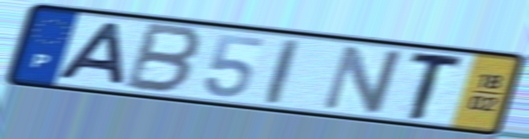5: (201, 32, 268, 99)
A: (51, 20, 128, 89)
B: (119, 20, 208, 97)
I: (263, 36, 303, 107)
N: (317, 42, 407, 116)
T: (405, 52, 470, 122)
